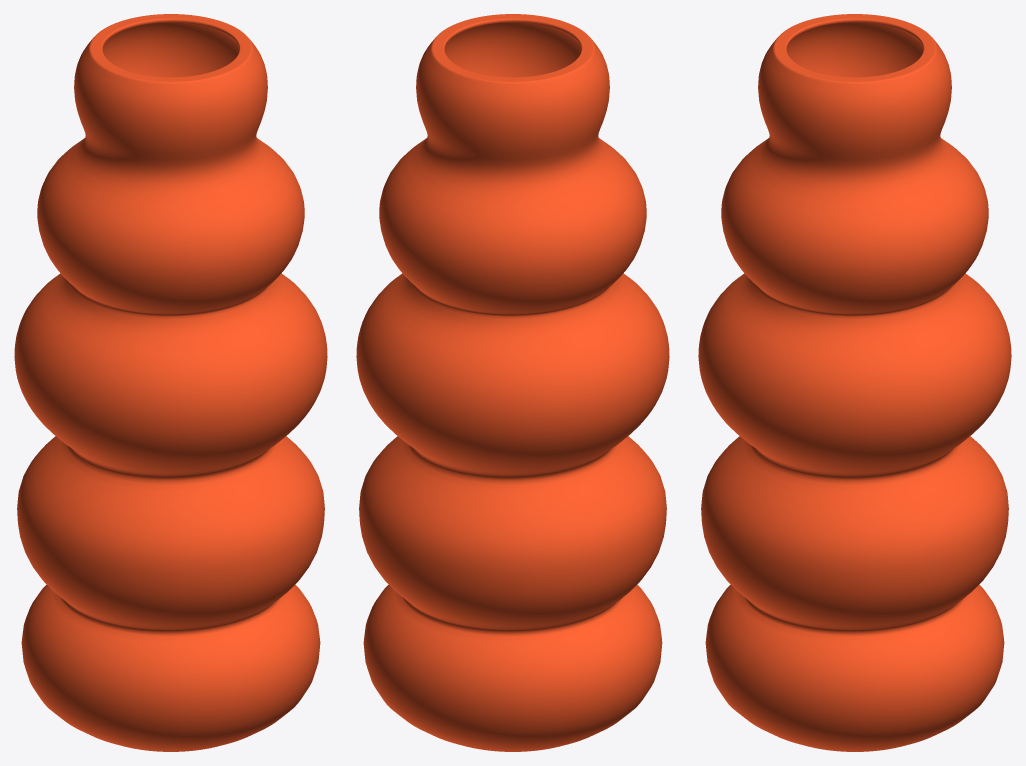
Rendered from kallarhals_wazon_50583712.glb.
3 renders of one model, left to right at view 1: azimuth 30°, elevation 25°; view 2: azimuth 150°, elevation 25°; view 3: azimuth 270°, elevation 25°, orthographic.
Parts seen in each view (by area): view 1: kallarhals_wazon_50583712; view 2: kallarhals_wazon_50583712; view 3: kallarhals_wazon_50583712.
Part boxes in pixels (left/top/right/bottom): kallarhals_wazon_50583712: left=14, top=14, right=327, bottom=751; kallarhals_wazon_50583712: left=356, top=14, right=669, bottom=751; kallarhals_wazon_50583712: left=698, top=14, right=1011, bottom=751.
Size of the model in its own units: 0.1095 by 0.26 by 0.1095.
